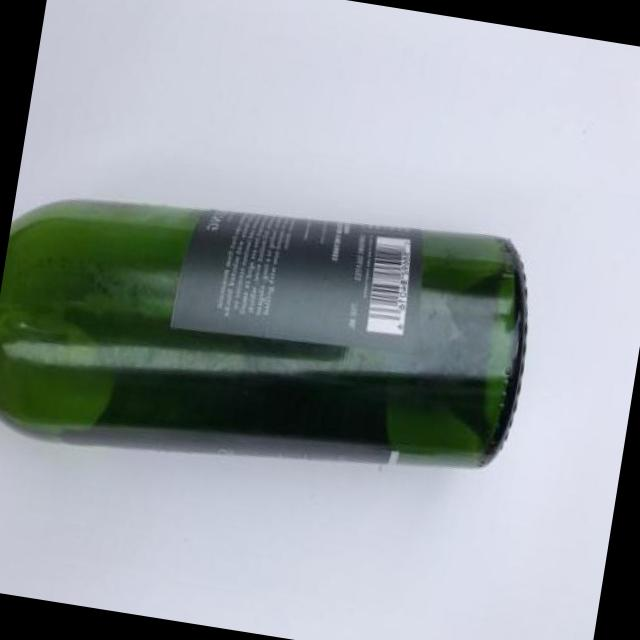BotolKaca: (0, 158, 546, 509)
